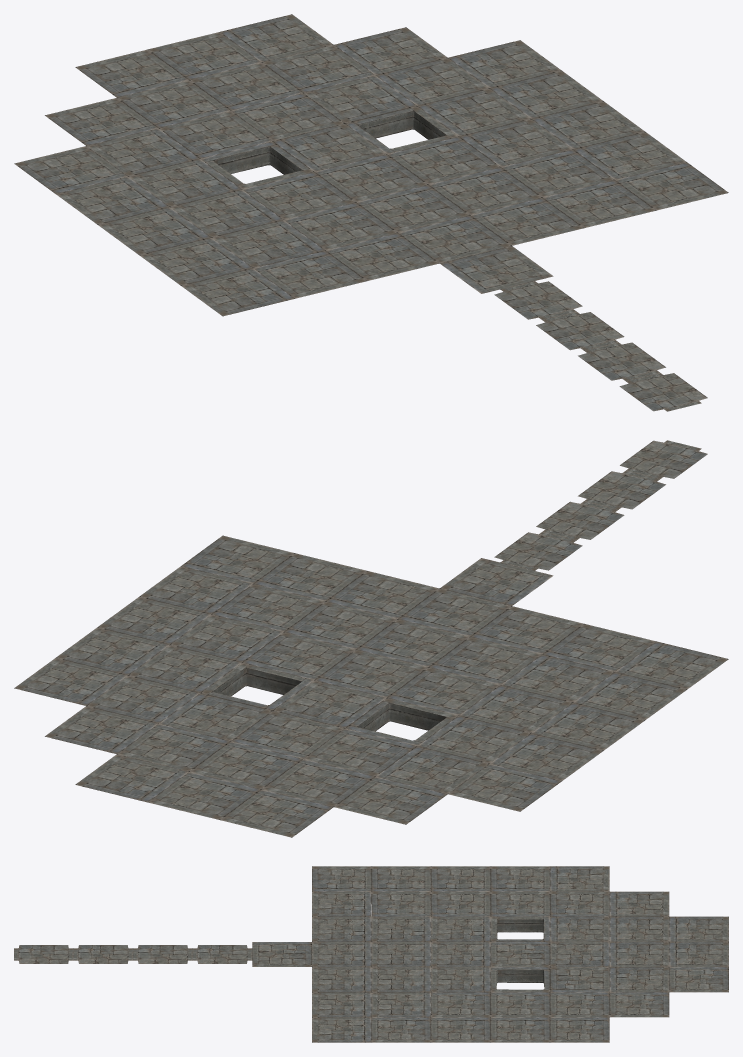
Rendered from FloorTiles_MDL.fbx.
3 renders of one model, top to bottom at view 1: azimuth 30°, elevation 25°; view 2: azimuth 150°, elevation 25°; view 3: azimuth 270°, elevation 25°, orthographic. The views are drawn at different scales.
Parts seen in each view (by area): view 1: TunnelBigDoorway.006; view 2: TunnelBigDoorway.006; view 3: TunnelBigDoorway.006.
Part boxes in pixels (bbox=[...]): TunnelBigDoorway.006: bbox=[14, 14, 728, 411]; TunnelBigDoorway.006: bbox=[14, 440, 728, 837]; TunnelBigDoorway.006: bbox=[14, 866, 728, 1042].
Bounding box in the file's own units: 3500 × 121 × 6000.
